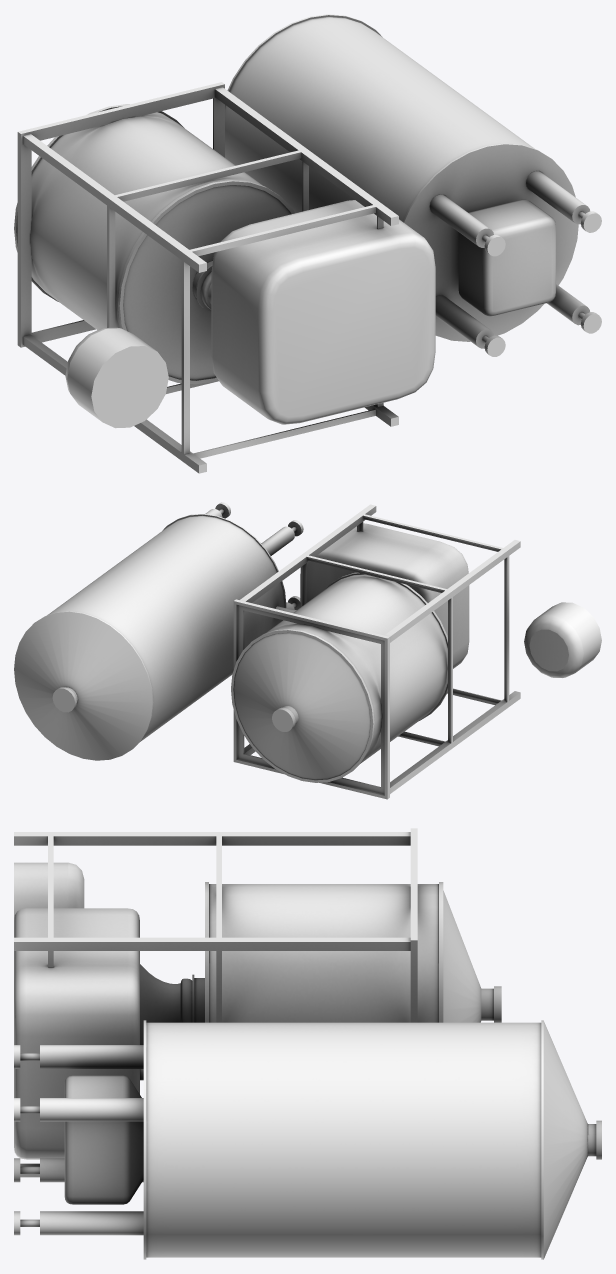
File: WaterPump.fbx
The picture shows the model from 3 angles, top to bottom: view 1: azimuth 30°, elevation 25°; view 2: azimuth 150°, elevation 25°; view 3: azimuth 270°, elevation 25°; orthographic projection. The views are drawn at different scales.
Parts seen in each view (by area): view 1: WaterPump.001; view 2: WaterPump.001; view 3: WaterPump.001.
Part boxes in pixels (box(x1,y1,x2,y2)): WaterPump.001: box(14, 14, 601, 473); WaterPump.001: box(14, 502, 601, 799); WaterPump.001: box(14, 828, 601, 1259).
Size of the model in its own units: 84.4 by 69.94 by 31.59.
